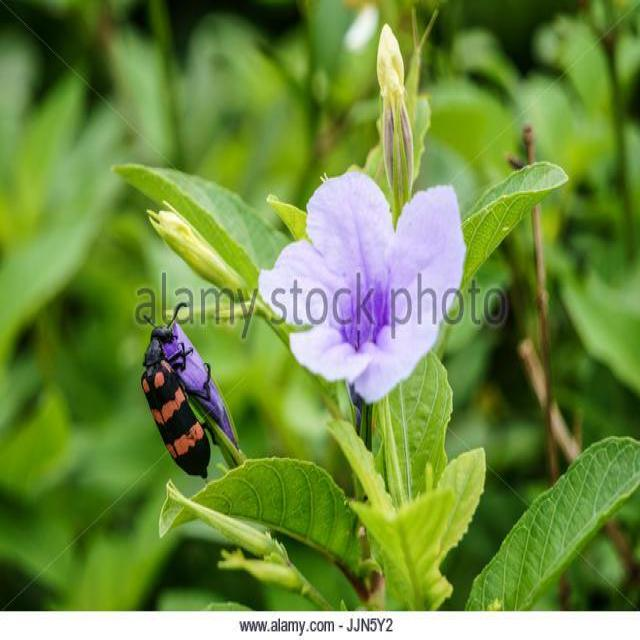BlisterBeetle-Adult-: (133, 298, 220, 488)
